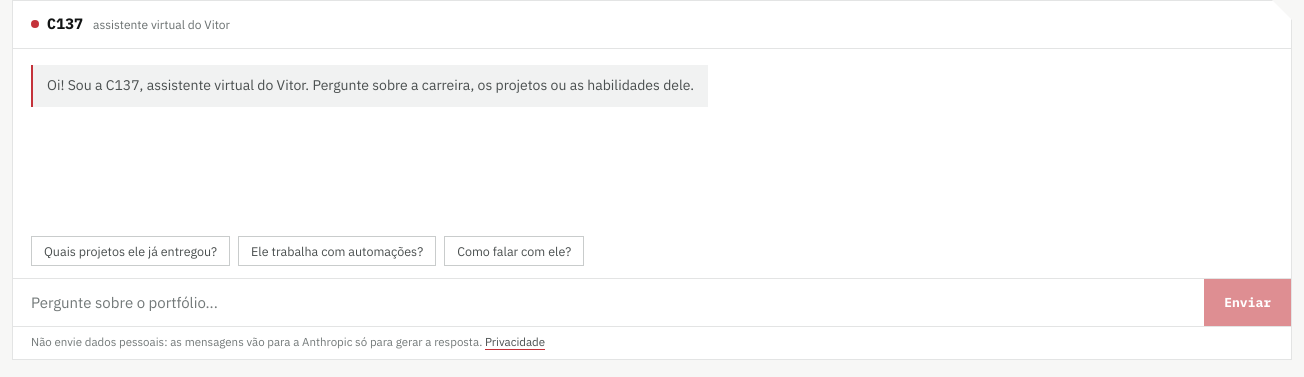
Scenario: C137 › shows a clear message when the answer takes too long or fails
Click the button "Como falar com ele?". click: (514, 251)
box: [444,236,584,266]
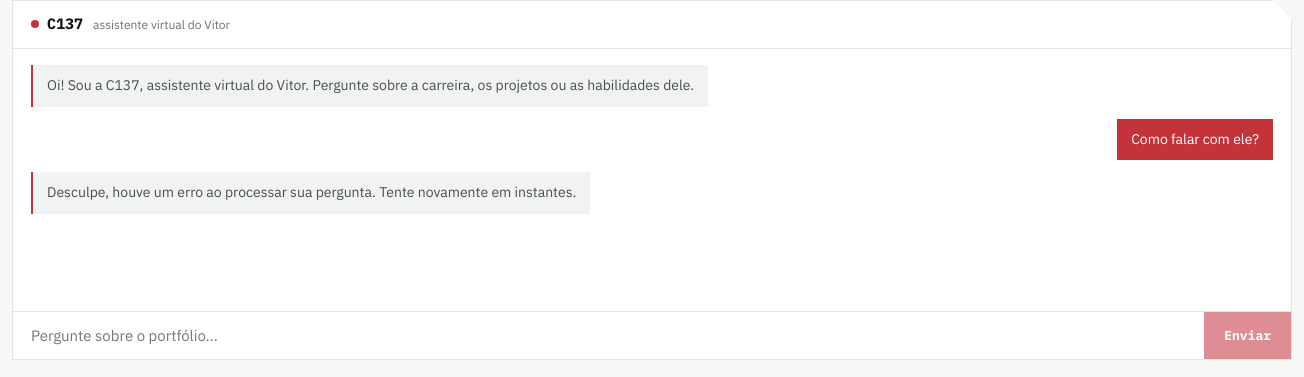
Now the text "houve um erro ao processar sua pergunta" is shown, box [47,183,576,201]
